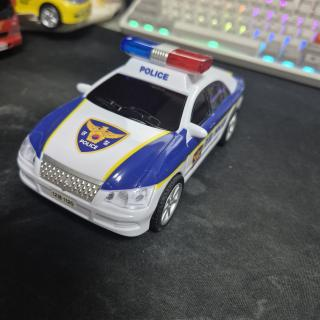Police_car: (17, 37, 245, 236)
